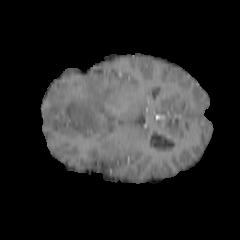glioma: (44, 79, 115, 131)
